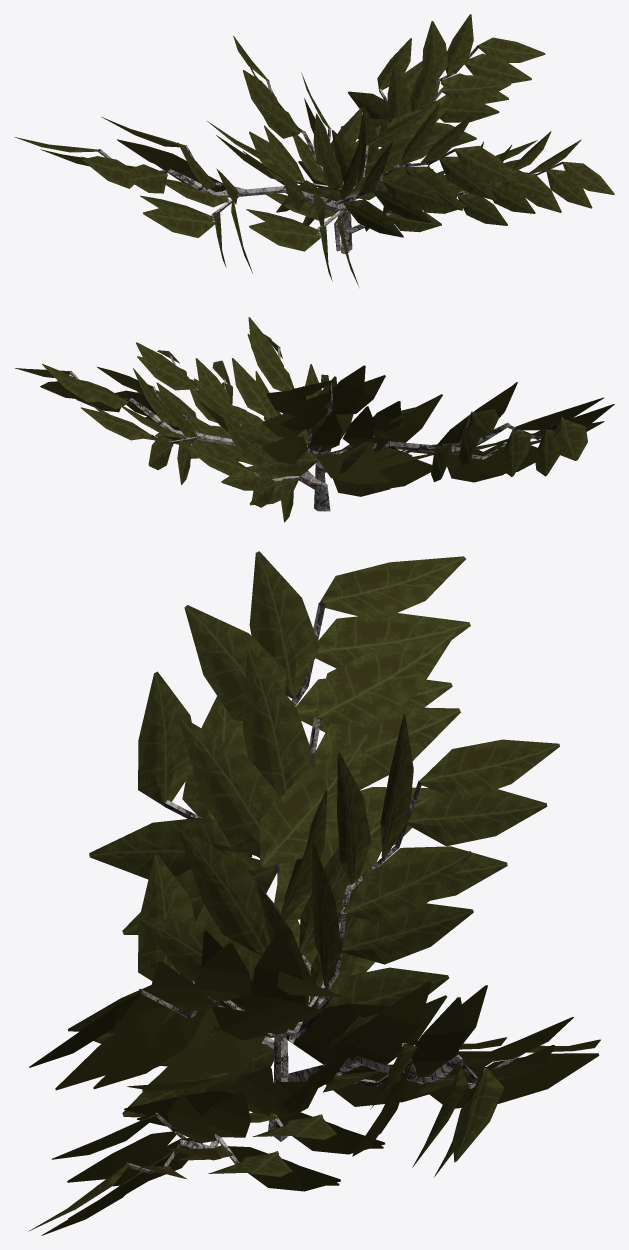
The model's file is Bush2.fbx.
3 views of the same model, one above another, from view 1: azimuth 30°, elevation 25°; view 2: azimuth 150°, elevation 25°; view 3: azimuth 270°, elevation 25° (orthographic). The views are drawn at different scales.
Visible parts, largest first — view 1: Leaves, Branches; view 2: Leaves, Branches; view 3: Leaves, Branches.
Boxes of the visible parts, box(x1,y1,x2,y2) form: Leaves: box(14, 14, 614, 287); Branches: box(98, 45, 563, 254); Leaves: box(15, 317, 614, 522); Branches: box(69, 346, 563, 511); Leaves: box(28, 551, 600, 1235); Branches: box(125, 602, 524, 1176).
Bounding box in the file's own units: 2.33 × 0.7533 × 1.1.
Materials: 2 (2 with a texture image).
